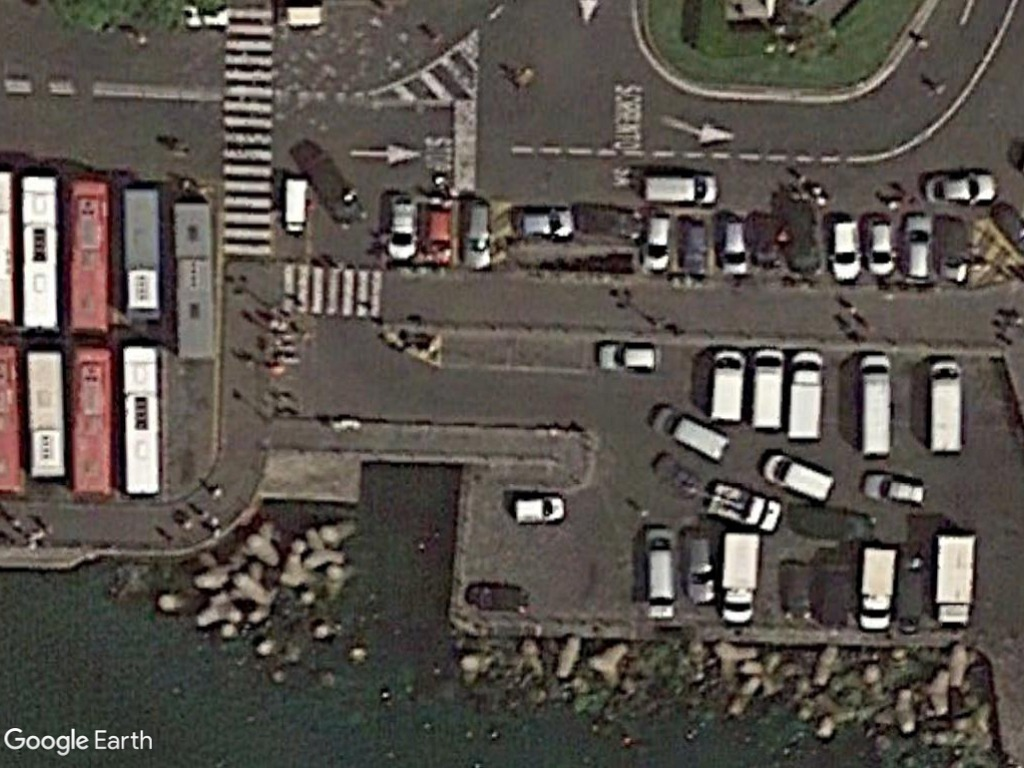bus: (63, 170, 115, 343), (67, 339, 120, 506), (15, 167, 66, 340), (170, 193, 217, 369), (119, 341, 167, 501), (118, 177, 167, 329), (23, 347, 69, 484)
car: (640, 520, 683, 626), (678, 523, 721, 607), (457, 193, 500, 275), (506, 202, 581, 246), (896, 210, 938, 288), (918, 172, 1004, 209), (825, 213, 867, 286), (591, 338, 667, 377), (860, 470, 930, 512), (715, 212, 754, 281), (384, 189, 420, 263), (867, 208, 901, 286), (510, 491, 571, 532)
other: (705, 472, 785, 539)
truck: (929, 525, 983, 630), (719, 524, 767, 630), (855, 543, 901, 637), (280, 173, 312, 238)
van: (849, 347, 900, 468), (646, 398, 735, 464), (921, 354, 971, 461), (762, 447, 838, 508), (789, 344, 830, 445), (747, 342, 789, 434), (634, 168, 724, 209), (706, 344, 749, 427)
